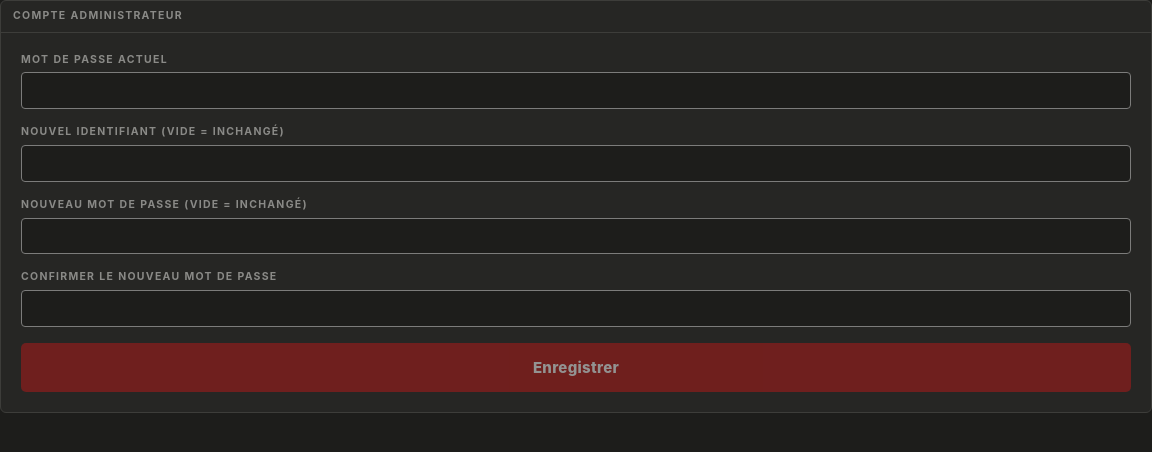
CA E10US006 — modifier les identifiants › envoie le mot de passe actuel et seulement les champs remplis, puis confirme
Type "ancien" into the password field labelled "Mot de passe actuel" at (576, 91), box [21,72,1131,109]
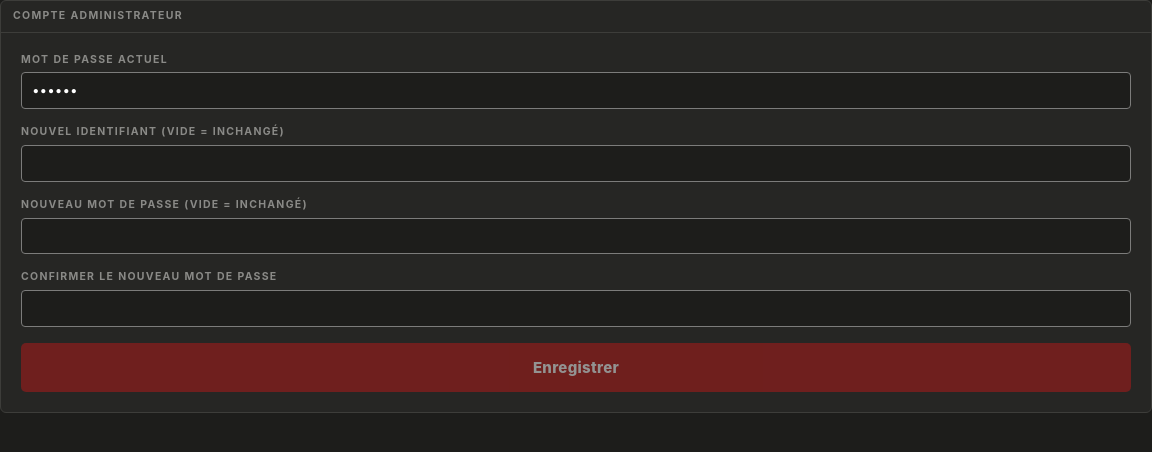
Type "neuf" into the password field labelled "Nouveau mot de passe (vide = inchangé)" at (576, 236), box [21,218,1131,254]
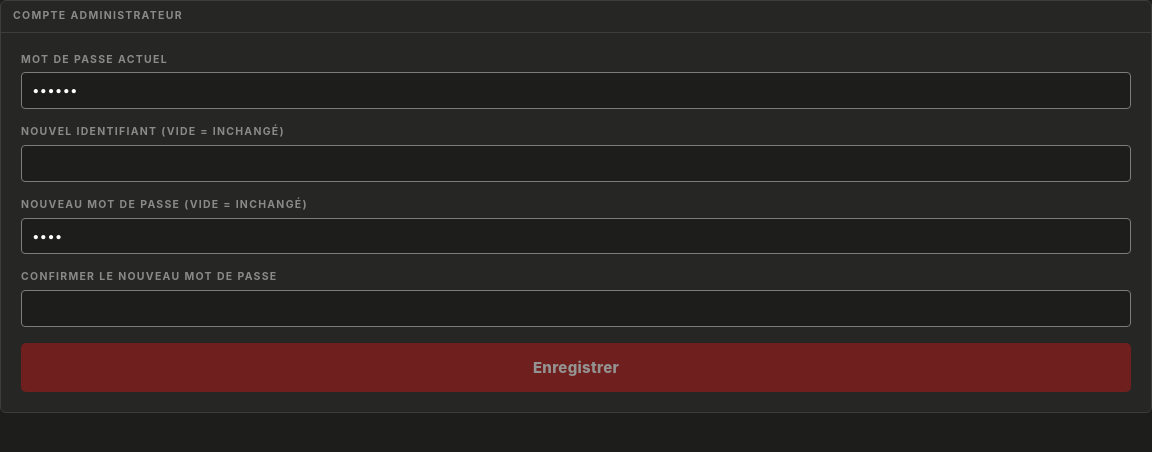
Type "neuf" into the password field labelled "Confirmer le nouveau mot de passe" at (576, 309), box [21,290,1131,327]
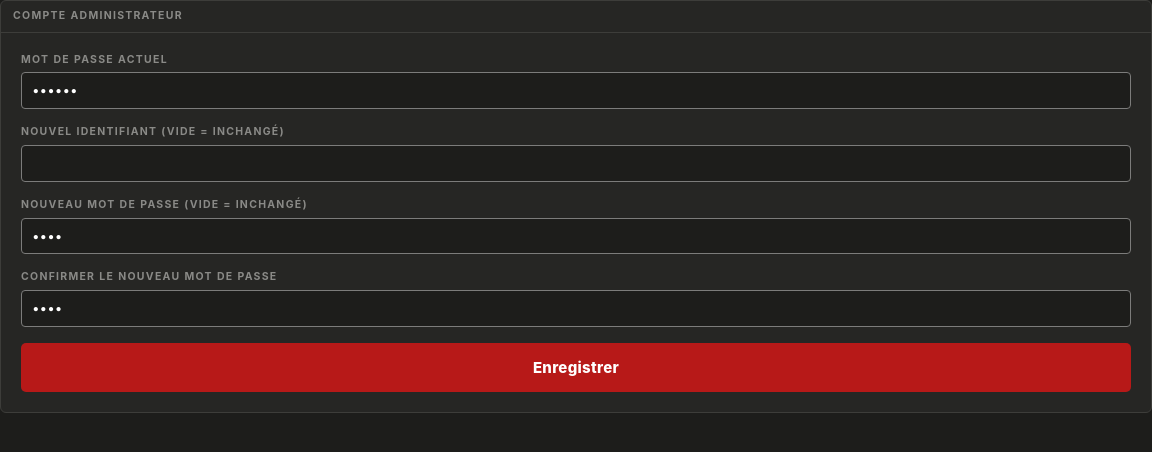
Click the button "Enregistrer" at (576, 368), box [21,343,1131,392]
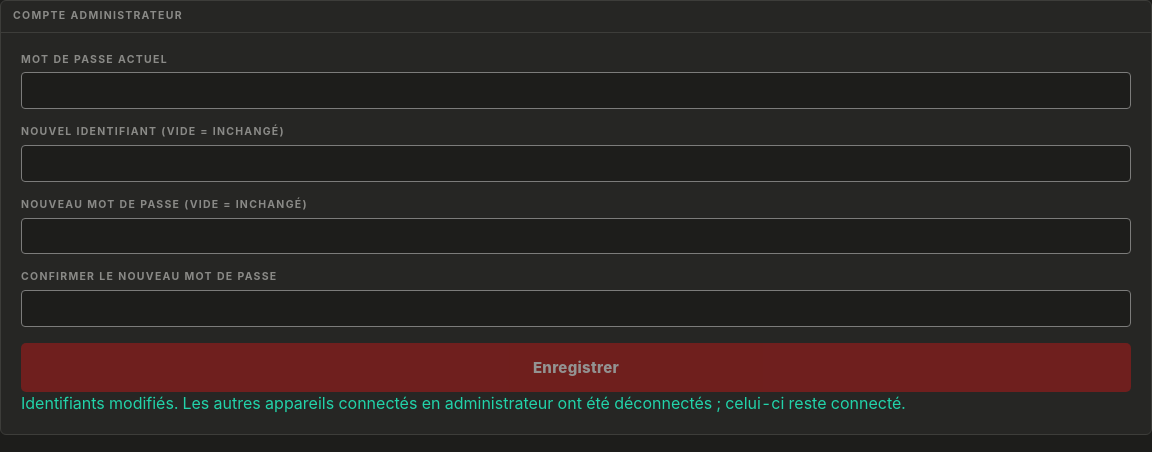
Result: the message shows "autres appareils" at [21,393,906,413]
Type "n" into the password field labelled "Mot de passe actuel" at (576, 91), box [21,72,1131,109]
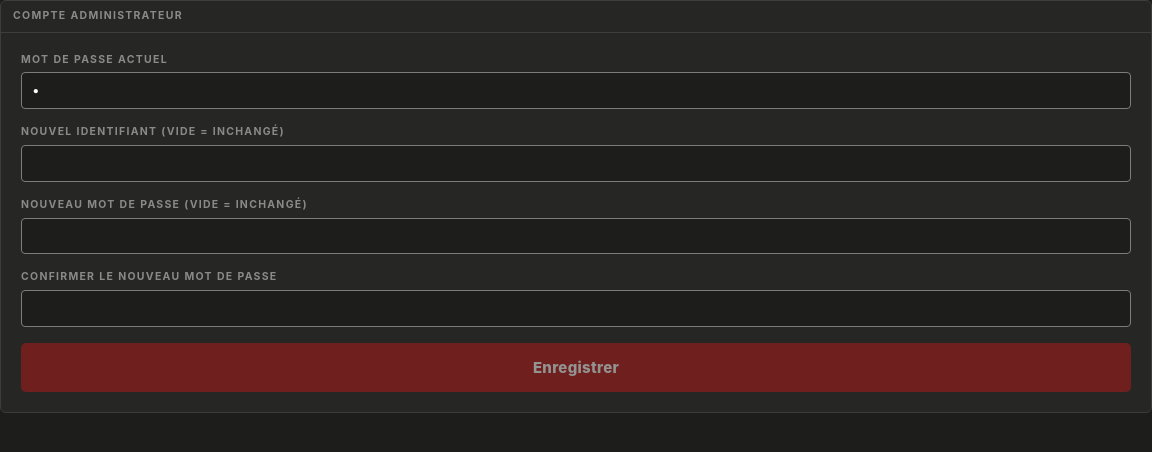
Result: the message "Identifiants modifiés. Les autres appareils connectés en administrateur ont été" is gone
